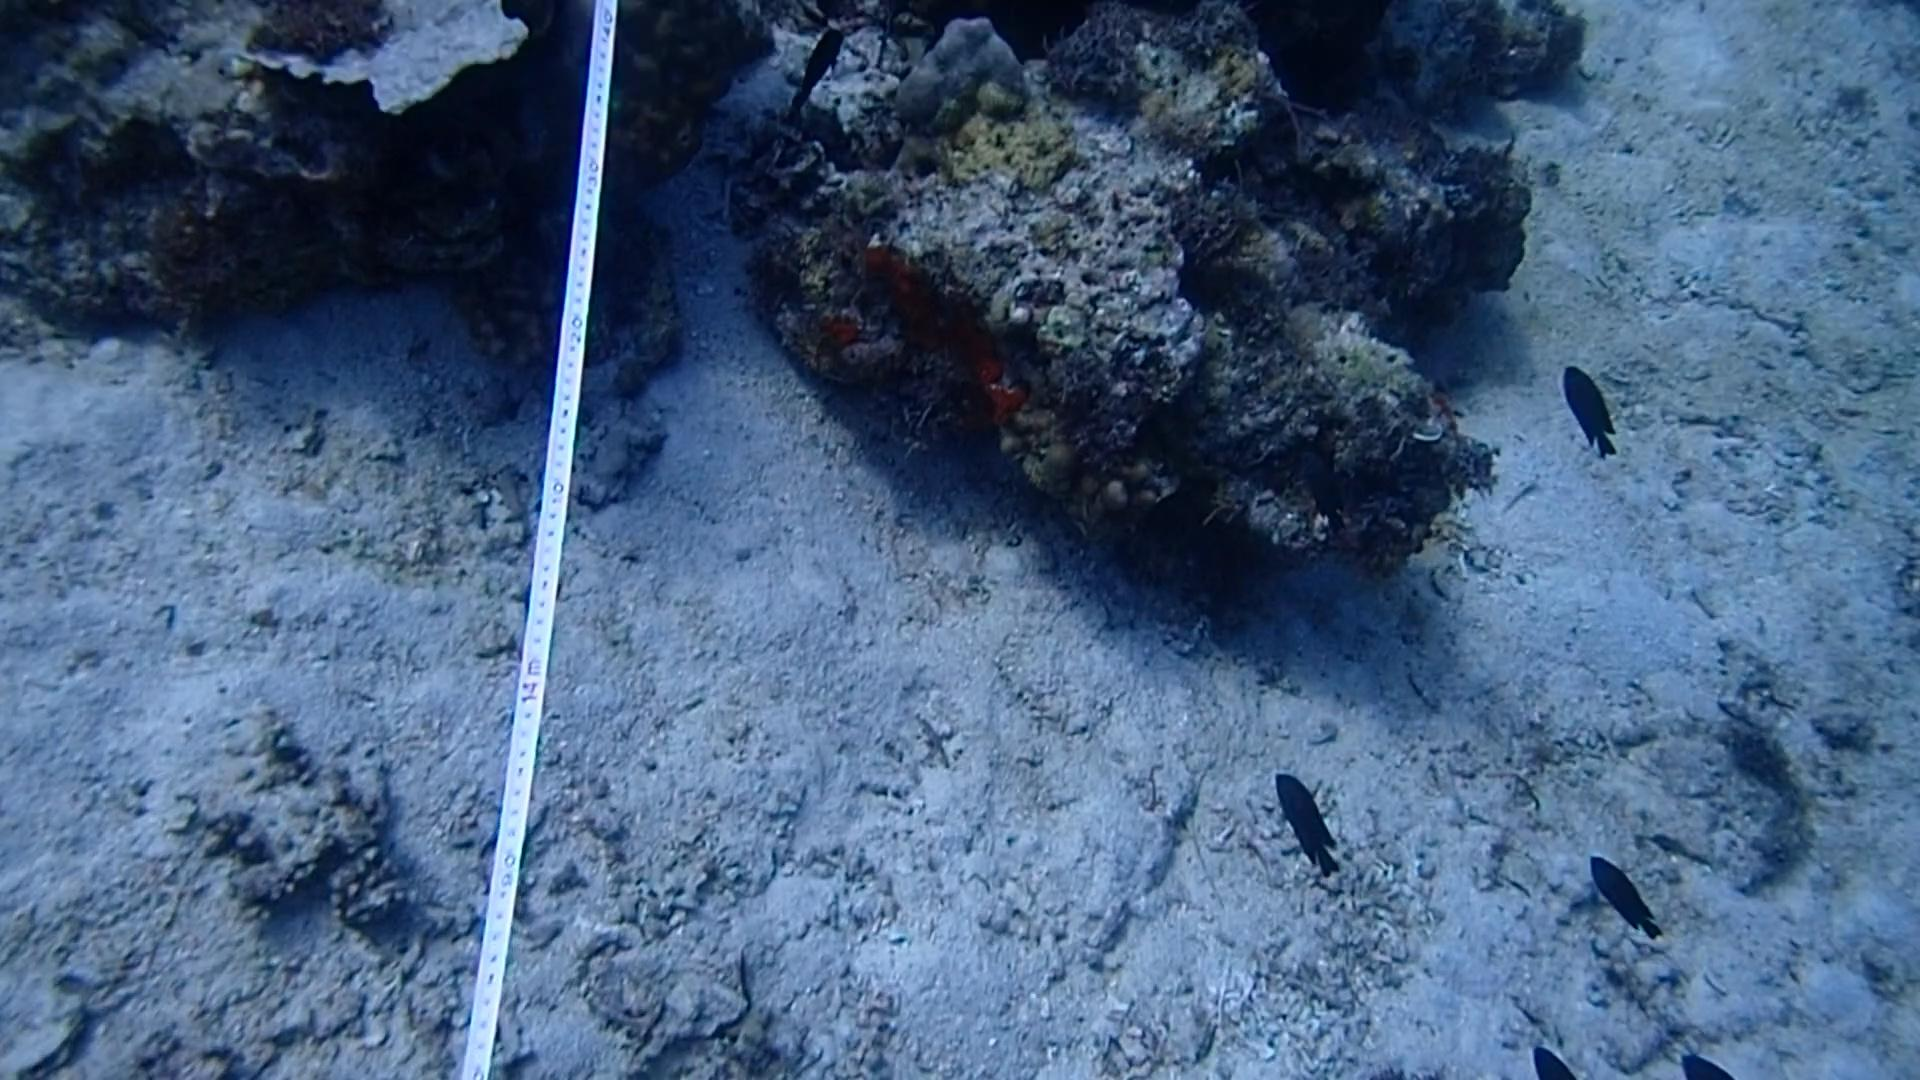Dark Fish: (1581, 845, 1672, 960), (1549, 349, 1633, 460), (1267, 766, 1342, 886), (770, 15, 847, 117), (1659, 1046, 1737, 1080), (1520, 1038, 1571, 1080)
